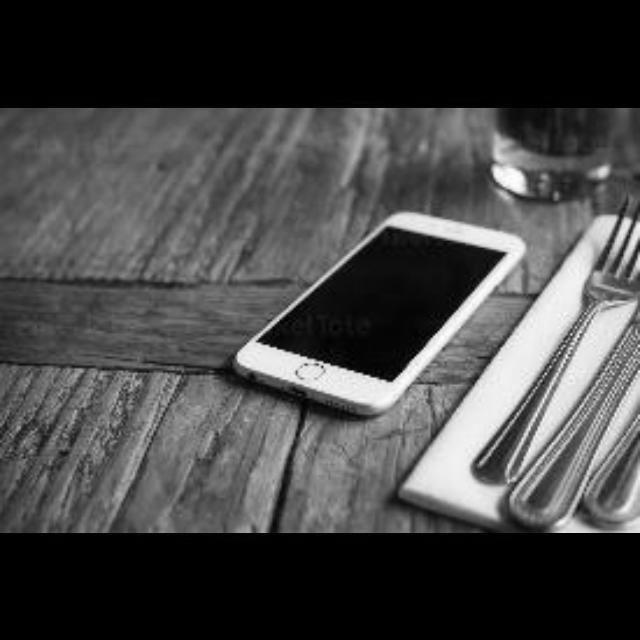fake: (202, 184, 540, 428)
